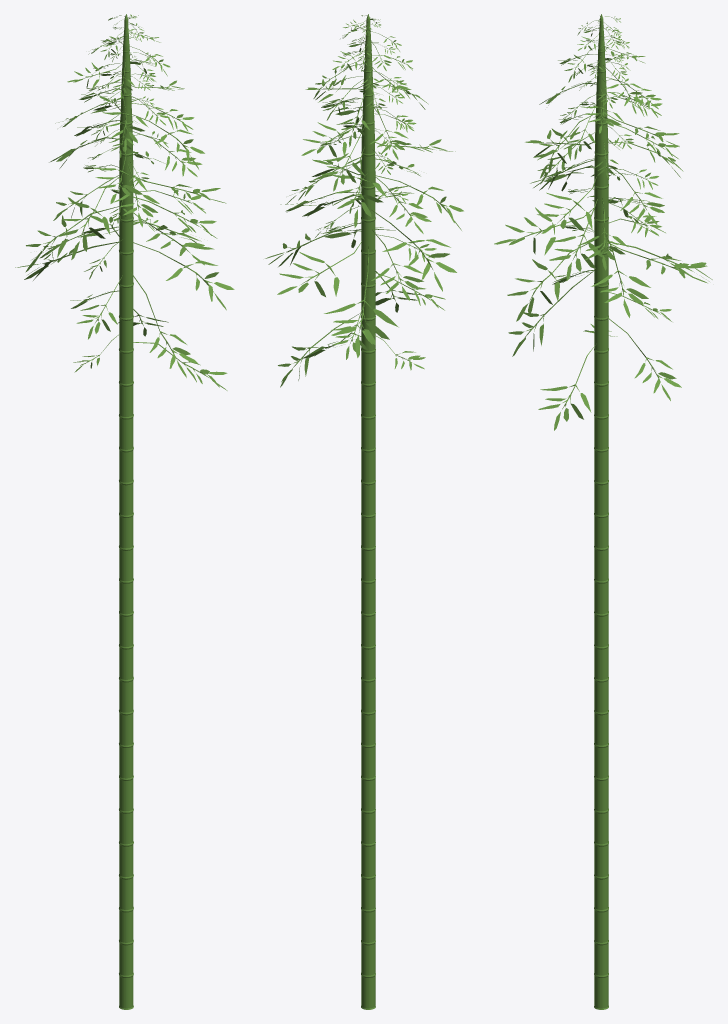
File: bamboo_straight_FBX.fbx
3 views of the same model, side by side, from view 1: azimuth 30°, elevation 25°; view 2: azimuth 150°, elevation 25°; view 3: azimuth 270°, elevation 25° (orthographic).
Visible parts, largest first — view 1: Trunk_base; view 2: Trunk_base; view 3: Trunk_base.
Boxes of the visible parts, x1,y1,x2,y2 form: Trunk_base: (15, 14, 234, 1009); Trunk_base: (265, 14, 463, 1009); Trunk_base: (494, 14, 712, 1009).
Bounding box in the file's own units: 651 × 3449 × 694.
